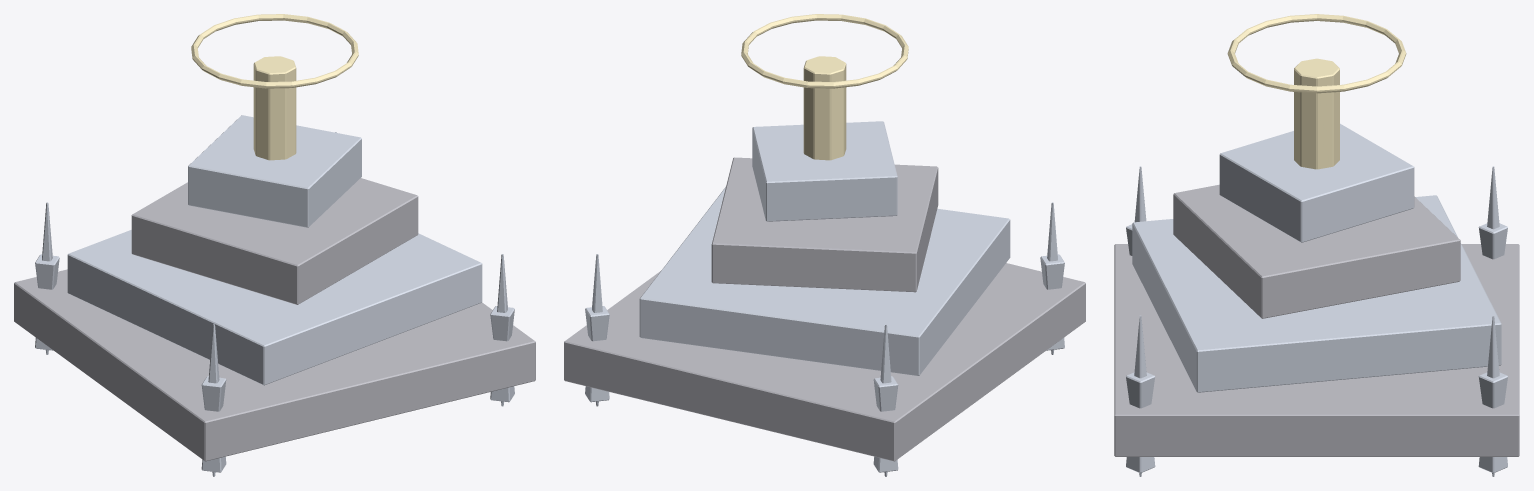
Rendered from SM_VaultOfRecords.fbx.
3 views of the same model, side by side, from view 1: azimuth 30°, elevation 25°; view 2: azimuth 150°, elevation 25°; view 3: azimuth 270°, elevation 25° (orthographic). The views are drawn at different scales.
Parts seen in each view (by area): view 1: SM_VaultOfRecords; view 2: SM_VaultOfRecords; view 3: SM_VaultOfRecords.
Part boxes in pixels (x1,y1,x2,y2): SM_VaultOfRecords: [14, 14, 535, 476]; SM_VaultOfRecords: [564, 14, 1085, 476]; SM_VaultOfRecords: [1114, 14, 1519, 476].
Size of the model in its own units: 520 by 497 by 520.
